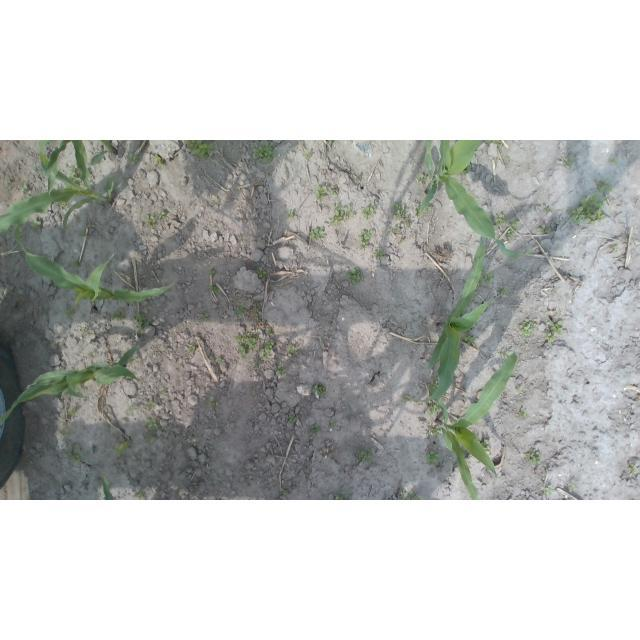Maize: (420, 141, 539, 262), (411, 236, 495, 403), (428, 354, 518, 500), (13, 225, 176, 305), (0, 347, 140, 426), (0, 141, 116, 232), (48, 141, 117, 196), (98, 472, 114, 500)
Weeds: (569, 194, 608, 225), (326, 203, 355, 227), (183, 140, 213, 160), (252, 141, 276, 163), (236, 333, 257, 357), (136, 313, 153, 337), (68, 446, 85, 466), (520, 319, 537, 338), (355, 449, 375, 465), (358, 230, 373, 251), (346, 268, 364, 285), (69, 164, 84, 184), (391, 201, 407, 219), (261, 340, 275, 360), (524, 449, 540, 466), (116, 439, 131, 456), (361, 203, 376, 219), (597, 176, 612, 192), (311, 226, 326, 240), (312, 383, 327, 397), (478, 437, 489, 456), (425, 451, 439, 465), (314, 186, 327, 201), (547, 320, 563, 332), (561, 154, 574, 168), (463, 331, 475, 345), (499, 350, 514, 361), (144, 419, 160, 429), (507, 216, 520, 228), (427, 404, 439, 417), (540, 484, 552, 497), (627, 464, 640, 476), (428, 381, 439, 395), (145, 214, 156, 228), (373, 248, 385, 260), (404, 492, 422, 500), (144, 434, 157, 445), (537, 224, 551, 234), (257, 267, 267, 281), (484, 268, 492, 285), (496, 214, 505, 229), (429, 424, 440, 436), (460, 164, 470, 176), (32, 220, 42, 232), (154, 155, 164, 167), (235, 304, 245, 316), (548, 332, 557, 345), (186, 344, 195, 357), (487, 140, 501, 148), (334, 492, 348, 500), (129, 154, 140, 164), (209, 284, 221, 293), (477, 273, 484, 288), (500, 286, 509, 297), (212, 195, 220, 207), (276, 367, 285, 377), (312, 423, 321, 433), (404, 217, 412, 228), (505, 230, 516, 238), (205, 396, 216, 404), (54, 202, 68, 208), (288, 345, 297, 354), (73, 384, 82, 393), (64, 308, 73, 317), (520, 408, 528, 418), (126, 405, 136, 413), (111, 312, 121, 320), (127, 356, 137, 364), (136, 490, 144, 500), (568, 483, 576, 493), (392, 224, 400, 233), (159, 212, 168, 220), (280, 487, 289, 495), (331, 185, 338, 195), (424, 204, 432, 212), (286, 211, 294, 219), (252, 300, 260, 308), (609, 155, 617, 163), (290, 414, 297, 423), (419, 174, 426, 182), (266, 327, 273, 335), (147, 401, 154, 409), (67, 408, 74, 416), (72, 259, 79, 267), (208, 269, 216, 276), (612, 244, 619, 252), (88, 350, 96, 357), (200, 313, 209, 319), (505, 156, 511, 165), (24, 183, 29, 193), (398, 237, 405, 244), (305, 150, 312, 157), (401, 397, 408, 404), (385, 228, 391, 236), (330, 420, 336, 428), (215, 357, 221, 364), (79, 231, 85, 238), (39, 307, 45, 314), (19, 228, 23, 238), (249, 387, 257, 392), (526, 292, 531, 300), (544, 207, 550, 213), (517, 386, 523, 392), (535, 205, 540, 212), (416, 208, 420, 216), (159, 388, 163, 396), (216, 402, 221, 408), (327, 140, 333, 144), (399, 488, 405, 492), (356, 174, 360, 179), (192, 436, 197, 439), (96, 152, 99, 155)
